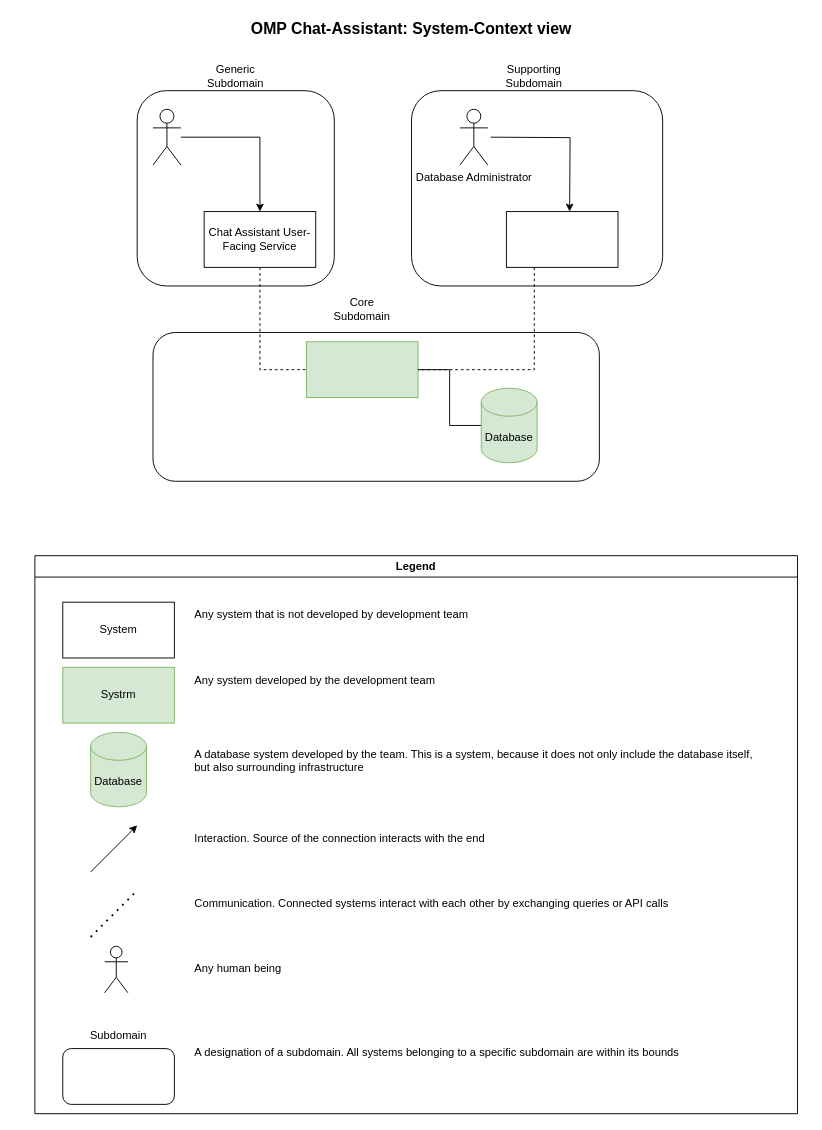
This 822x1130 diagram has some shape labels left out. Each missing label, with the centre of its shape:
Actor: the point at 116,969
Administration Service: the point at 561,239
Chat Assistant API System: the point at 362,369
User: the point at 166,136
